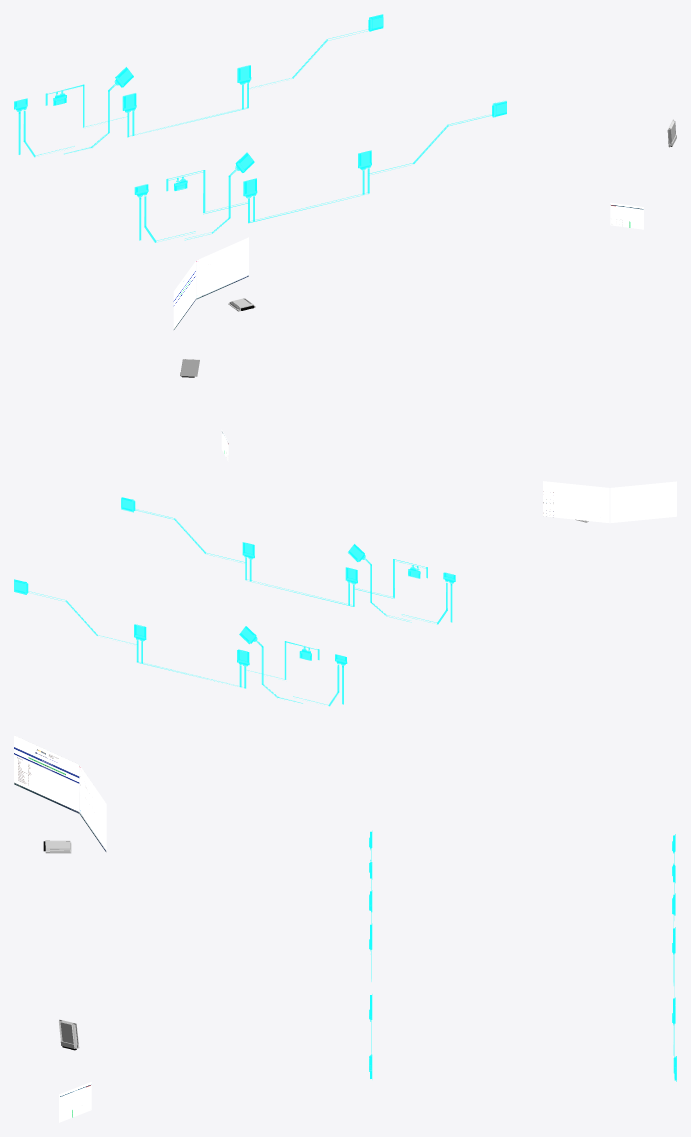
Rendered from netcomm-opt.glb.
3 renders of one model, top to bottom at view 1: azimuth 30°, elevation 25°; view 2: azimuth 150°, elevation 25°; view 3: azimuth 270°, elevation 25°, orthographic. The views are drawn at different scales.
Parts seen in each view (by area): view 1: Cube.132, Screen, Screen.001, Plane.004; view 2: Cube.132, Screen, Screen.001; view 3: Screen.001, Screen, Cube.132, Plane.004, ECU.013_primitive1.
Part boxes in pixels (<box>): Cube.132: <box>14,14,506,242</box>; Screen: <box>196,237,248,299</box>; Screen.001: <box>173,261,195,330</box>; Plane.004: <box>610,202,643,229</box>; Cube.132: <box>14,497,455,706</box>; Screen: <box>543,481,609,523</box>; Screen.001: <box>610,481,676,523</box>; Screen.001: <box>14,735,79,813</box>; Screen: <box>79,765,106,852</box>; Cube.132: <box>369,831,676,1081</box>; Plane.004: <box>59,1082,91,1122</box>; ECU.013_primitive1: <box>45,840,79,1048</box>.
Bounding box in the file's own units: 7.92 × 1.72 × 6.87.
6 materials, 3 textured.
